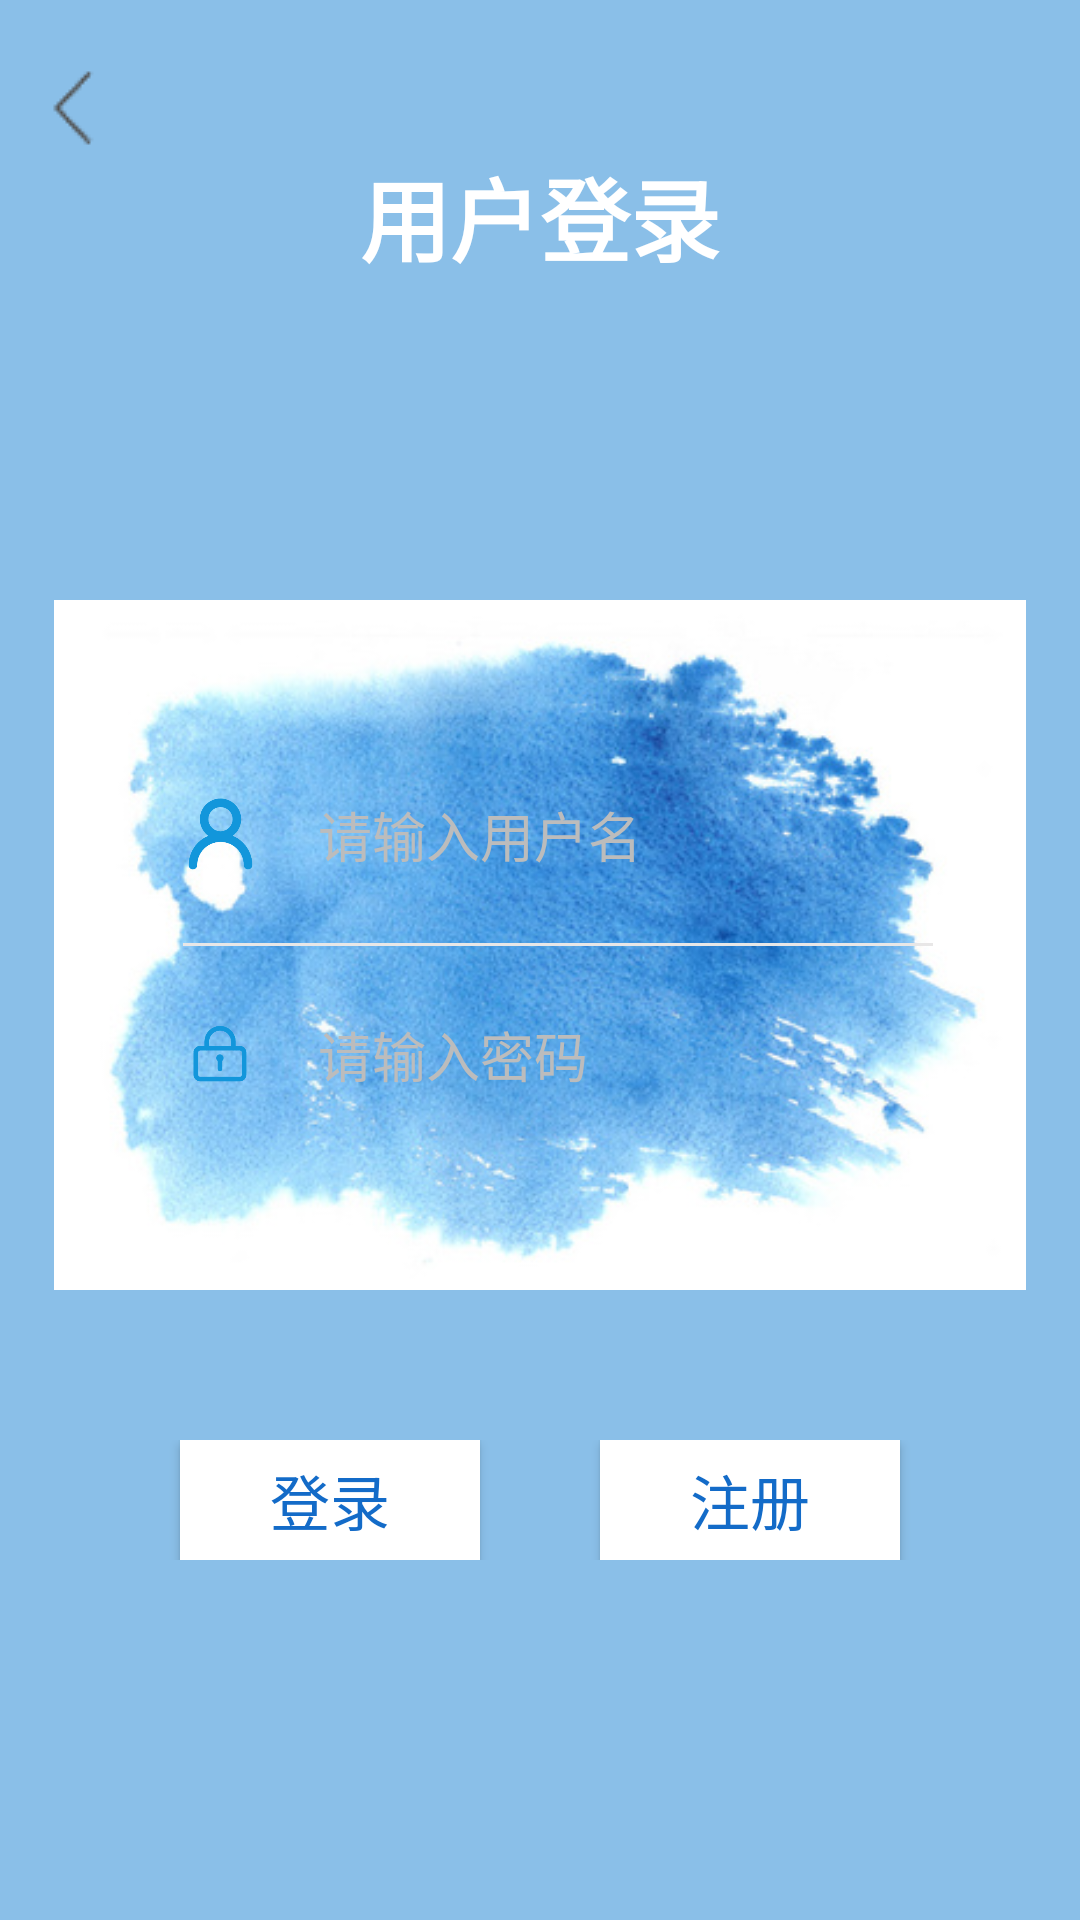

Point at icon controls on the screen. Image size 1080w x 1920h, points as (x,y).
back: (72,108)
mima: (220,1054)
yonghu: (220,834)
